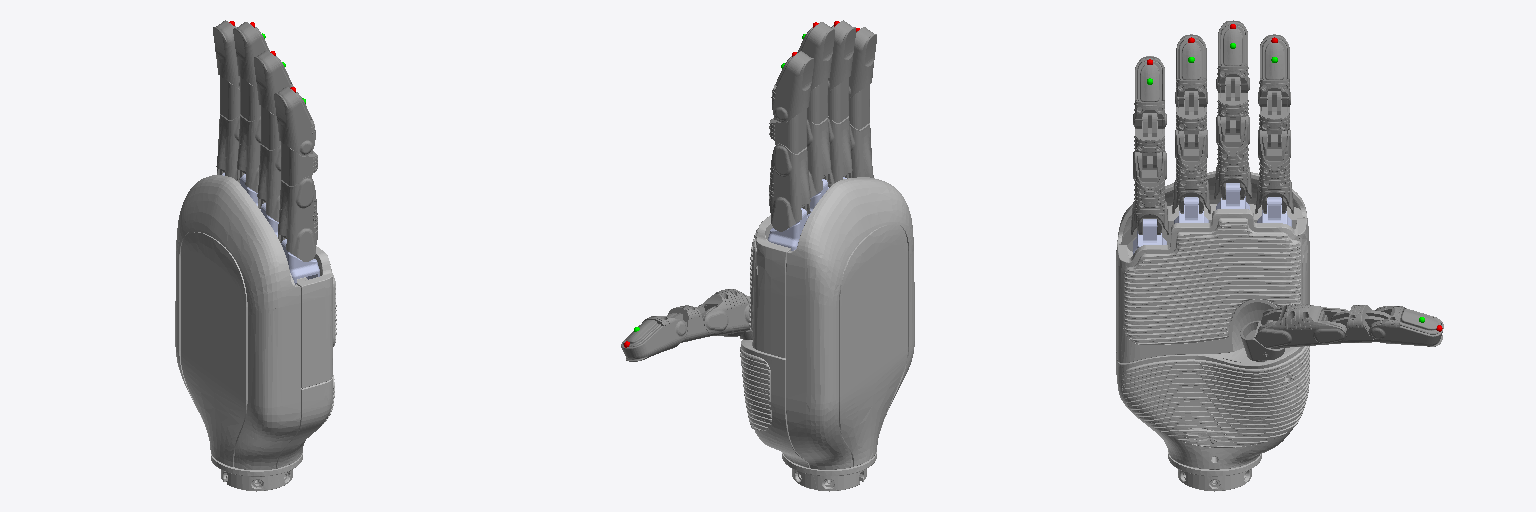
--- Facts derived from the render (not from the file) ---
3 views of the same robot in one strip: view 1: azimuth 30°, elevation 25°; view 2: azimuth 150°, elevation 25°; view 3: azimuth 270°, elevation 25° (orthographic).
Model dexhand021_right_simplified with 33 links and 32 joints (20 revolute, 12 fixed), rooted at root, posed every joint at zero.
Visible links, largest first — view 1: right_hand_base, r_f_link5_2, r_f_link5_4, r_f_link4_2, r_f_link4_4, r_f_link3_2, r_f_link3_4, r_f_link2_2, r_f_link2_4, r_f_link5_3, r_f_link2_3, r_f_link3_3 (+2 smaller); view 2: right_hand_base, r_f_link2_2, r_f_link2_4, r_f_link1_2, r_f_link1_4, r_f_link3_2, r_f_link3_4, r_f_link5_4, r_f_link4_4, r_f_link4_2, r_f_link2_3, r_f_link5_2 (+5 smaller); view 3: right_hand_base, r_f_link1_2, r_f_link4_2, r_f_link3_2, r_f_link2_2, r_f_link5_2, r_f_link1_4, r_f_link4_4, r_f_link3_4, r_f_link5_4, r_f_link2_4, r_f_link1_3 (+9 smaller).
Link boxes in pixels (left/top/right/bottom): right_hand_base: left=175, top=175, right=336, bottom=491; r_f_link5_2: left=278, top=176, right=317, bottom=261; r_f_link5_4: left=274, top=87, right=315, bottom=155; r_f_link4_2: left=257, top=144, right=280, bottom=221; r_f_link4_4: left=254, top=50, right=293, bottom=115; r_f_link3_2: left=237, top=114, right=260, bottom=192; r_f_link3_4: left=233, top=22, right=269, bottom=87; r_f_link2_2: left=216, top=114, right=239, bottom=182; r_f_link2_4: left=213, top=20, right=239, bottom=88; r_f_link5_3: left=281, top=142, right=317, bottom=185; r_f_link2_3: left=220, top=76, right=239, bottom=119; r_f_link3_3: left=240, top=77, right=260, bottom=121; right_hand_base: left=740, top=177, right=914, bottom=491; r_f_link2_2: left=769, top=143, right=810, bottom=231; r_f_link2_4: left=771, top=51, right=813, bottom=122; r_f_link1_2: left=695, top=289, right=749, bottom=336; r_f_link1_4: left=621, top=316, right=687, bottom=361; r_f_link3_2: left=807, top=118, right=831, bottom=197; r_f_link3_4: left=797, top=22, right=834, bottom=89; r_f_link5_4: left=849, top=27, right=876, bottom=97; r_f_link4_4: left=828, top=20, right=855, bottom=90; r_f_link4_2: left=828, top=116, right=852, bottom=187; r_f_link2_3: left=769, top=109, right=806, bottom=153; r_f_link5_2: left=850, top=123, right=873, bottom=177; right_hand_base: left=1116, top=171, right=1309, bottom=491; r_f_link1_2: left=1256, top=304, right=1347, bottom=347; r_f_link4_2: left=1172, top=129, right=1210, bottom=213; r_f_link3_2: left=1214, top=115, right=1251, bottom=199; r_f_link2_2: left=1255, top=129, right=1293, bottom=213; r_f_link5_2: left=1131, top=151, right=1168, bottom=234; r_f_link1_4: left=1369, top=306, right=1443, bottom=346; r_f_link4_4: left=1175, top=34, right=1207, bottom=106; r_f_link3_4: left=1216, top=20, right=1249, bottom=92; r_f_link5_4: left=1133, top=56, right=1166, bottom=128; r_f_link2_4: left=1258, top=34, right=1290, bottom=106; r_f_link1_3: left=1331, top=305, right=1389, bottom=342.
Size in the robot's own frame: 0.0954 by 0.1917 by 0.2954 metres.
Meshes: 21 distinct files referenced, 21 mesh visuals loaded (21 binary STL).

robot.urdf — dexhand021_right_simplified:
<robot name="dexhand021_right_simplified">

  <mujoco>
    <compiler meshdir="../meshes/dexhand021_simplified/" balanceinertia="true" discardvisual="false" />
  </mujoco>
  <link name="root"></link>
  <joint name="root2base_link" type="fixed"> 
    <parent link="root"/>
    <child link="base_dummy"/>
  </joint>

  <link name="base_dummy">
    <visual>
      <geometry>
        <sphere radius="0.008"/>
      </geometry> 
    </visual>
  </link>
  <joint name="base2dummy" type="fixed"> 
    <parent link="base_dummy"/>
    <child link="right_hand_base"/>
    <origin xyz="0 0 -0.15"/>
  </joint> 

  <link name="right_hand_base">
    <inertial>
      <origin xyz="-0.0015600278745012287 0.0009625090756784007 0.09398454850555357" rpy="0 0 0" />
      <mass value="0.883463360898785" />
      <inertia ixx="0.0023037059580292927" ixy="-2.5805909269074535e-05" ixz="6.508687856674162e-05"
        iyy="0.00175609384330596" iyz="-2.666287531103223e-06" izz="0.0010111364552477476" />
    </inertial>
    <visual>
      <origin xyz="0 0 0" rpy="0 0 0" />
      <geometry>
        <mesh filename="package://dexhand021_simplified/right_hand_base.STL" />
      </geometry>
      <material name="">
        <color rgba="0.75294 0.75294 0.75294 1" />
      </material>
    </visual>
    <collision>
      <origin xyz="0 0 0" rpy="0 0 0" />
      <geometry>
        <mesh filename="package://dexhand021_simplified/right_hand_base.STL" />
      </geometry>
    </collision>
  </link>
  <link name="r_f_link1_1">
    <inertial>
      <origin xyz="0.0019778544910583665 -0.0003514818577181193 0.013450507914283125" rpy="0 0 0" />
      <mass value="0.004409963237919953" />
      <inertia ixx="3.738552705358593e-07" ixy="3.520913341881495e-09" ixz="3.260085035198596e-08"
        iyy="4.391768875994729e-07" iyz="-8.616401728203388e-09" izz="2.0472072776608229e-07" />
    </inertial>
    <visual>
      <origin xyz="0 0 0" rpy="0 0 0" />
      <geometry>
        <mesh filename="package://dexhand021_simplified/r_f_link1_1.STL" />
      </geometry>
      <material name="">
        <color rgba="0.6 0.6 0.6 1" />
      </material>
    </visual>
    <collision>
      <origin xyz="0 0 0" rpy="0 0 0" />
      <geometry>
        <mesh filename="package://dexhand021_simplified/r_f_link1_1.STL" />
      </geometry>
    </collision>
  </link>
  <joint name="r_f_joint1_1" type="revolute">
    <origin xyz="0.032783 0.023781 0.11211" rpy="-2.8732 -0.15197 1.3168" />
    <parent link="right_hand_base" />
    <child link="r_f_link1_1" />
    <axis xyz="0 0 1" />
    <limit lower="0" upper="2.2" effort="10" velocity="1.5" />
    <joint_properties damping="0.3" friction="0.5" />
  </joint>
  <link name="r_f_link1_2">
    <inertial>
      <origin xyz="0.021433119463682464 0.00017949524860297363 -0.0012980489303816639" rpy="0 0 0" />
      <mass value="0.009952224489361963" />
      <inertia ixx="6.208915702660591e-07" ixy="4.331524105264049e-08" ixz="-1.2895966979378627e-09"
        iyy="1.653927431057688e-06" iyz="-2.4476026593789965e-10" izz="1.710128108742942e-06" />
    </inertial>
    <visual>
      <origin xyz="0 0 0" rpy="0 0 0" />
      <geometry>
        <mesh filename="package://dexhand021_simplified/r_f_link1_2.STL" />
      </geometry>
      <material name="">
        <color rgba="0.6 0.6 0.6 1" />
      </material>
    </visual>
    <collision>
      <origin xyz="0 0 0" rpy="0 0 0" />
      <geometry>
        <mesh filename="package://dexhand021_simplified/r_f_link1_2.STL" />
      </geometry>
    </collision>
  </link>
  <joint name="r_f_joint1_2" type="revolute">
    <origin xyz="0.0083307 0 0" rpy="-1.5708 0 0" />
    <parent link="r_f_link1_1" />
    <child link="r_f_link1_2" />
    <axis xyz="0 0 1" />
    <limit lower="0" upper="1.3" effort="10" velocity="1.5" />
    <joint_properties damping="0.3" friction="0.5" />
  </joint>
  <link name="r_f_link1_3">
    <inertial>
      <origin xyz="0.013458664141784588 -0.0006999958062437809 -0.0012933496543974267" rpy="0 0 0" />
      <mass value="0.004573330448687783" />
      <inertia ixx="2.037621860887778e-07" ixy="8.916735061601473e-09" ixz="-4.728402827633534e-11"
        iyy="3.560514726888813e-07" iyz="-9.591501738021396e-12" izz="3.7975043116215744e-07" />
    </inertial>
    <visual>
      <origin xyz="0 0 0" rpy="0 0 0" />
      <geometry>
        <mesh filename="package://dexhand021_simplified/r_f_link1_3.STL" />
      </geometry>
      <material name="">
        <color rgba="0.6 0.6 0.6 1" />
      </material>
    </visual>
    <collision>
      <origin xyz="0 0 0" rpy="0 0 0" />
      <geometry>
        <mesh filename="package://dexhand021_simplified/r_f_link1_3.STL" />
      </geometry>
    </collision>
  </link>
  <joint name="r_f_joint1_3" type="revolute">
    <origin xyz="0.043 0 0" rpy="0 0 0" />
    <parent link="r_f_link1_2" />
    <child link="r_f_link1_3" />
    <axis xyz="0 0 1" />
    <limit lower="0" upper="1.3" effort="10" velocity="1.5" />
    <joint_properties damping="0.3" friction="0.5" />
  </joint>
  <link name="r_f_link1_4">
    <inertial>
      <origin xyz="0.016260902265632454 -0.0036968191068811897 -0.0012919747163664733" rpy="0 0 0" />
      <mass value="0.0061592845660588934" />
      <inertia ixx="3.209811115967142e-07" ixy="1.2445469635995967e-07" ixz="-6.880896135469004e-11"
        iyy="7.411929699509472e-07" iyz="2.2440788377780098e-11" izz="7.350966610995298e-07" />
    </inertial>
    <visual>
      <origin xyz="0 0 0" rpy="0 0 0" />
      <geometry>
        <mesh filename="package://dexhand021_simplified/r_f_link1_4.STL" />
      </geometry>
      <material name="">
        <color rgba="0.6 0.6 0.6 1" />
      </material>
    </visual>
    <collision>
      <origin xyz="0 0 0" rpy="0 0 0" />
      <geometry>
        <mesh filename="package://dexhand021_simplified/r_f_link1_4.STL" />
      </geometry>
    </collision>
  </link>
  <joint name="r_f_joint1_4" type="revolute">
    <origin xyz="0.025 0 0" rpy="0 0 0" />
    <parent link="r_f_link1_3" />
    <child link="r_f_link1_4" />
    <axis xyz="0 0 1" />
    <limit lower="0" upper="1.3" effort="10" velocity="1.5" />
    <joint_properties damping="0.3" friction="0.5" />
  </joint>
  <link name="r_f_link2_1">
    <inertial>
      <origin xyz="0.007002069038621297 9.357803041398554e-08 0.0009685458146087415" rpy="0 0 0" />
      <mass value="0.00409703693716023" />
      <inertia ixx="2.178904895420587e-07" ixy="1.787165940909423e-12" ixz="-2.714020732705414e-08"
        iyy="3.1812522087563326e-07" iyz="-3.5118768363971816e-12" izz="2.5804422992725426e-07" />
    </inertial>
    <visual>
      <origin xyz="0 0 0" rpy="0 0 0" />
      <geometry>
        <mesh filename="package://dexhand021_simplified/r_f_link2_1.STL" />
      </geometry>
      <material name="">
        <color rgba="0.79216 0.81961 0.93333 1" />
      </material>
    </visual>
    <collision>
      <origin xyz="0 0 0" rpy="0 0 0" />
      <geometry>
        <mesh filename="package://dexhand021_simplified/r_f_link2_1.STL" />
      </geometry>
    </collision>
  </link>
  <joint name="r_f_joint2_1" type="revolute">
    <origin xyz="0.006966 0.034912 0.1644" rpy="0 -1.5708 0" />
    <parent link="right_hand_base" />
    <child link="r_f_link2_1" />
    <axis xyz="0 0 1" />
    <limit lower="0" upper="0.6" effort="10" velocity="1.5" />
    <joint_properties damping="0.3" friction="0.5" />
  </joint>
  <link name="r_f_link2_2">
    <inertial>
      <origin xyz="0.021162319330545017 -0.0005905085870812944 -2.0359113094578646e-06" rpy="0 0 0" />
      <mass value="0.009428397870928118" />
      <inertia ixx="5.548897448174672e-07" ixy="2.456603793705999e-08" ixz="-1.449358310042273e-09"
        iyy="1.6571977230510514e-06" iyz="-3.7107061310136195e-11" izz="1.643290123512205e-06" />
    </inertial>
    <visual>
      <origin xyz="0 0 0" rpy="0 0 0" />
      <geometry>
        <mesh filename="package://dexhand021_simplified/r_f_link2_2.STL" />
      </geometry>
      <material name="">
        <color rgba="0.6 0.6 0.6 1" />
      </material>
    </visual>
    <collision>
      <origin xyz="0 0 0" rpy="0 0 0" />
      <geometry>
        <mesh filename="package://dexhand021_simplified/r_f_link2_2.STL" />
      </geometry>
    </collision>
  </link>
  <joint name="r_f_joint2_2" type="revolute">
    <origin xyz="0.017 0 0" rpy="-1.5708 0 0" />
    <parent link="r_f_link2_1" />
    <child link="r_f_link2_2" />
    <axis xyz="0 0 1" />
    <limit lower="0" upper="1.3" effort="10" velocity="1.5" />
    <joint_properties damping="0.3" friction="0.5" />
  </joint>
  <link name="r_f_link2_3">
    <inertial>
      <origin xyz="0.01345866415315435 -0.0006999958062410579 -9.330927506595308e-07" rpy="0 0 0" />
      <mass value="0.004573330342568089" />
      <inertia ixx="2.0376217670112032e-07" ixy="8.91673496248712e-09" ixz="-4.72826458681375e-11"
        iyy="3.5605146078323137e-07" iyz="-9.59165793254378e-12" izz="3.797504229073957e-07" />
    </inertial>
    <visual>
      <origin xyz="0 0 0" rpy="0 0 0" />
      <geometry>
        <mesh filename="package://dexhand021_simplified/r_f_link2_3.STL" />
      </geometry>
      <material name="">
        <color rgba="0.6 0.6 0.6 1" />
      </material>
    </visual>
    <collision>
      <origin xyz="0 0 0" rpy="0 0 0" />
      <geometry>
        <mesh filename="package://dexhand021_simplified/r_f_link2_3.STL" />
      </geometry>
    </collision>
  </link>
  <joint name="r_f_joint2_3" type="revolute">
    <origin xyz="0.043 0 0" rpy="0 0 0" />
    <parent link="r_f_link2_2" />
    <child link="r_f_link2_3" />
    <axis xyz="0 0 1" />
    <limit lower="0" upper="1.3" effort="10" velocity="1.5" />
    <joint_properties damping="0.3" friction="0.5" />
  </joint>
  <link name="r_f_link2_4">
    <inertial>
      <origin xyz="0.016260902193777373 -0.0036968190901838743 3.9726157294289625e-07" rpy="0 0 0" />
      <mass value="0.006159284595780522" />
      <inertia ixx="3.20980749974577e-07" ixy="1.2445469728969045e-07" ixz="-6.803142097883919e-11"
        iyy="7.411926136551803e-07" iyz="2.345964836779508e-11" izz="7.35096667536344e-07" />
    </inertial>
    <visual>
      <origin xyz="0 0 0" rpy="0 0 0" />
      <geometry>
        <mesh filename="package://dexhand021_simplified/r_f_link2_4.STL" />
      </geometry>
      <material name="">
        <color rgba="0.6 0.6 0.6 1" />
      </material>
    </visual>
    <collision>
      <origin xyz="0 0 0" rpy="0 0 0" />
      <geometry>
        <mesh filename="package://dexhand021_simplified/r_f_link2_4.STL" />
      </geometry>
    </collision>
  </link>
  <joint name="r_f_joint2_4" type="revolute">
    <origin xyz="0.025 0 0" rpy="0 0 0" />
    <parent link="r_f_link2_3" />
    <child link="r_f_link2_4" />
    <axis xyz="0 0 1" />
    <limit lower="0" upper="1.3" effort="10" velocity="1.5" />
    <joint_properties damping="0.3" friction="0.5" />
  </joint>
  <link name="r_f_link3_1">
    <inertial>
      <origin xyz="0.007002065151499656 9.454180011921967e-08 0.0009685524458122911" rpy="0 0 0" />
      <mass value="0.004097039690946969" />
      <inertia ixx="2.178907383197761e-07" ixy="1.812446936566197e-12" ixz="-2.7140047929913052e-08"
        iyy="3.181255635140554e-07" iyz="-3.5436789396505467e-12" izz="2.5804432247051993e-07" />
    </inertial>
    <visual>
      <origin xyz="0 0 0" rpy="0 0 0" />
      <geometry>
        <mesh filename="package://dexhand021_simplified/r_f_link3_1.STL" />
      </geometry>
      <material name="">
        <color rgba="0.79216 0.81961 0.93333 1" />
      </material>
    </visual>
    <collision>
      <origin xyz="0 0 0" rpy="0 0 0" />
      <geometry>
        <mesh filename="package://dexhand021_simplified/r_f_link3_1.STL" />
      </geometry>
    </collision>
  </link>
  <joint name="r_f_joint3_1" type="revolute">
    <origin xyz="0.006966 0.010612 0.1734" rpy="0 -1.5708 0" />
    <parent link="right_hand_base" />
    <child link="r_f_link3_1" />
    <axis xyz="0 0 1" />
    <limit lower="-0.001" upper="0.001" effort="0" velocity="0" />
  </joint>
  <link name="r_f_link3_2">
    <inertial>
      <origin xyz="0.021162319330545024 -0.0005905085870812944 -2.0359113094579582e-06" rpy="0 0 0" />
      <mass value="0.009428397870928118" />
      <inertia ixx="5.548897448174672e-07" ixy="2.4566037937060034e-08"
        ixz="-1.4493583100422476e-09" iyy="1.657197723051048e-06" iyz="-3.710706131013722e-11"
        izz="1.6432901235122024e-06" />
    </inertial>
    <visual>
      <origin xyz="0 0 0" rpy="0 0 0" />
      <geometry>
        <mesh filename="package://dexhand021_simplified/r_f_link3_2.STL" />
      </geometry>
      <material name="">
        <color rgba="0.6 0.6 0.6 1" />
      </material>
    </visual>
    <collision>
      <origin xyz="0 0 0" rpy="0 0 0" />
      <geometry>
        <mesh filename="package://dexhand021_simplified/r_f_link3_2.STL" />
      </geometry>
    </collision>
  </link>
  <joint name="r_f_joint3_2" type="revolute">
    <origin xyz="0.017 0 0" rpy="-1.5708 0 0" />
    <parent link="r_f_link3_1" />
    <child link="r_f_link3_2" />
    <axis xyz="0 0 1" />
    <limit lower="0" upper="1.3" effort="10" velocity="1.5" />
    <joint_properties damping="0.3" friction="0.5" />
  </joint>
  <link name="r_f_link3_3">
    <inertial>
      <origin xyz="0.013458664153210224 -0.0006999958063106384 -9.330929179144477e-07" rpy="0 0 0" />
      <mass value="0.004573330342515683" />
      <inertia ixx="2.0376217669493455e-07" ixy="8.916734960990637e-09" ixz="-4.728264880693177e-11"
        iyy="3.56051460777864e-07" iyz="-9.591653550951845e-12" izz="3.7975042290424446e-07" />
    </inertial>
    <visual>
      <origin xyz="0 0 0" rpy="0 0 0" />
      <geometry>
        <mesh filename="package://dexhand021_simplified/r_f_link3_3.STL" />
      </geometry>
      <material name="">
        <color rgba="0.6 0.6 0.6 1" />
      </material>
    </visual>
    <collision>
      <origin xyz="0 0 0" rpy="0 0 0" />
      <geometry>
        <mesh filename="package://dexhand021_simplified/r_f_link3_3.STL" />
      </geometry>
    </collision>
  </link>
  <joint name="r_f_joint3_3" type="revolute">
    <origin xyz="0.043 0 0" rpy="0 0 0" />
    <parent link="r_f_link3_2" />
    <child link="r_f_link3_3" />
    <axis xyz="0 0 1" />
    <limit lower="0" upper="1.3" effort="10" velocity="1.5" />
    <joint_properties damping="0.3" friction="0.5" />
  </joint>
  <link name="r_f_link3_4">
    <inertial>
      <origin xyz="0.016260902193777373 -0.0036968190901838743 3.97261572942753e-07" rpy="0 0 0" />
      <mass value="0.006159284595780522" />
      <inertia ixx="3.20980749974577e-07" ixy="1.2445469728969045e-07" ixz="-6.803142097885355e-11"
        iyy="7.411926136551803e-07" iyz="2.3459648367798343e-11" izz="7.35096667536344e-07" />
    </inertial>
    <visual>
      <origin xyz="0 0 0" rpy="0 0 0" />
      <geometry>
        <mesh filename="package://dexhand021_simplified/r_f_link3_4.STL" />
      </geometry>
      <material name="">
        <color rgba="0.6 0.6 0.6 1" />
      </material>
    </visual>
    <collision>
      <origin xyz="0 0 0" rpy="0 0 0" />
      <geometry>
        <mesh filename="package://dexhand021_simplified/r_f_link3_4.STL" />
      </geometry>
    </collision>
  </link>
  <joint name="r_f_joint3_4" type="revolute">
    <origin xyz="0.025 0 0" rpy="0 0 0" />
    <parent link="r_f_link3_3" />
    <child link="r_f_link3_4" />
    <axis xyz="0 0 1" />
    <limit lower="0" upper="1.3" effort="10" velocity="1.5" />
    <joint_properties damping="0.3" friction="0.5" />
  </joint>
  <link name="r_f_link4_1">
    <inertial>
      <origin xyz="0.00700206404946545 -9.455995810260609e-08 -0.0009685535151255396" rpy="0 0 0" />
      <mass value="0.004097040417879458" />
      <inertia ixx="2.1789076647042053e-07" ixy="-1.8130446100071611e-12"
        ixz="2.7140020786854562e-08" iyy="3.181256178112115e-07" iyz="-3.5443354761634267e-12"
        izz="2.5804435232800547e-07" />
    </inertial>
    <visual>
      <origin xyz="0 0 0" rpy="0 0 0" />
      <geometry>
        <mesh filename="package://dexhand021_simplified/r_f_link4_1.STL" />
      </geometry>
      <material name="">
        <color rgba="0.79216 0.81961 0.93333 1" />
      </material>
    </visual>
    <collision>
      <origin xyz="0 0 0" rpy="0 0 0" />
      <geometry>
        <mesh filename="package://dexhand021_simplified/r_f_link4_1.STL" />
      </geometry>
    </collision>
  </link>
  <joint name="r_f_joint4_1" type="revolute">
    <origin xyz="0.006966 -0.013688 0.1644" rpy="3.1416 -1.5708 0" />
    <parent link="right_hand_base" />
    <child link="r_f_link4_1" />
    <axis xyz="0 0 1" />
    <limit lower="0" upper="0.6" effort="10" velocity="1.5" />
    <joint_properties damping="0.3" friction="0.5" />
  </joint>
  <link name="r_f_link4_2">
    <inertial>
      <origin xyz="0.021162319330545028 -0.0005905085870812945 -2.0359113094580522e-06" rpy="0 0 0" />
      <mass value="0.009428397870928114" />
      <inertia ixx="5.548897448174672e-07" ixy="2.4566037937060014e-08"
        ixz="-1.4493583100423105e-09" iyy="1.657197723051048e-06" iyz="-3.710706131013946e-11"
        izz="1.6432901235122017e-06" />
    </inertial>
    <visual>
      <origin xyz="0 0 0" rpy="0 0 0" />
      <geometry>
        <mesh filename="package://dexhand021_simplified/r_f_link4_2.STL" />
      </geometry>
      <material name="">
        <color rgba="0.6 0.6 0.6 1" />
      </material>
    </visual>
    <collision>
      <origin xyz="0 0 0" rpy="0 0 0" />
      <geometry>
        <mesh filename="package://dexhand021_simplified/r_f_link4_2.STL" />
      </geometry>
    </collision>
  </link>
  <joint name="r_f_joint4_2" type="revolute">
    <origin xyz="0.017 0 0" rpy="1.5708 0 0" />
    <parent link="r_f_link4_1" />
    <child link="r_f_link4_2" />
    <axis xyz="0 0 1" />
    <limit lower="0" upper="1.3" effort="10" velocity="1.5" />
    <joint_properties damping="0.3" friction="0.5" />
  </joint>
  <link name="r_f_link4_3">
    <inertial>
      <origin xyz="0.01345866415322733 -0.0006999958065390803 -9.330926767104112e-07" rpy="0 0 0" />
      <mass value="0.00457333034240358" />
      <inertia ixx="2.0376217668041e-07" ixy="8.91673496008684e-09" ixz="-4.728264679830499e-11"
        iyy="3.5605146077323675e-07" iyz="-9.591662499769373e-12" izz="3.797504228946728e-07" />
    </inertial>
    <visual>
      <origin xyz="0 0 0" rpy="0 0 0" />
      <geometry>
        <mesh filename="package://dexhand021_simplified/r_f_link4_3.STL" />
      </geometry>
      <material name="">
        <color rgba="0.6 0.6 0.6 1" />
      </material>
    </visual>
    <collision>
      <origin xyz="0 0 0" rpy="0 0 0" />
      <geometry>
        <mesh filename="package://dexhand021_simplified/r_f_link4_3.STL" />
      </geometry>
    </collision>
  </link>
  <joint name="r_f_joint4_3" type="revolute">
    <origin xyz="0.043 0 0" rpy="0 0 0" />
    <parent link="r_f_link4_2" />
    <child link="r_f_link4_3" />
    <axis xyz="0 0 1" />
    <limit lower="0" upper="1.3" effort="10" velocity="1.5" />
    <joint_properties damping="0.3" friction="0.5" />
  </joint>
  <link name="r_f_link4_4">
    <inertial>
      <origin xyz="0.016260902193777373 -0.0036968190901838743 3.972615729429321e-07" rpy="0 0 0" />
      <mass value="0.006159284595780522" />
      <inertia ixx="3.20980749974577e-07" ixy="1.2445469728969045e-07" ixz="-6.803142097883491e-11"
        iyy="7.411926136551803e-07" iyz="2.345964836779392e-11" izz="7.35096667536344e-07" />
    </inertial>
    <visual>
      <origin xyz="0 0 0" rpy="0 0 0" />
      <geometry>
        <mesh filename="package://dexhand021_simplified/r_f_link4_4.STL" />
      </geometry>
      <material name="">
        <color rgba="0.6 0.6 0.6 1" />
      </material>
    </visual>
    <collision>
      <origin xyz="0 0 0" rpy="0 0 0" />
      <geometry>
        <mesh filename="package://dexhand021_simplified/r_f_link4_4.STL" />
      </geometry>
    </collision>
  </link>
  <joint name="r_f_joint4_4" type="revolute">
    <origin xyz="0.025 0 0" rpy="0 0 0" />
    <parent link="r_f_link4_3" />
    <child link="r_f_link4_4" />
    <axis xyz="0 0 1" />
    <limit lower="0" upper="1.3" effort="10" velocity="1.5" />
    <joint_properties damping="0.3" friction="0.5" />
  </joint>
  <link name="r_f_link5_1">
    <inertial>
      <origin xyz="0.007002072345617439 -9.356774266676025e-08 -0.0009685416065737108" rpy="0 0 0" />
      <mass value="0.004097034606160823" />
      <inertia ixx="2.1789035420755646e-07" ixy="-1.7868226937386937e-12"
        ixz="2.7140306065952608e-08" iyy="3.1812500990757077e-07" iyz="-3.511503367038186e-12"
        izz="2.5804414762069686e-07" />
    </inertial>
    <visual>
      <origin xyz="0 0 0" rpy="0 0 0" />
      <geometry>
        <mesh filename="package://dexhand021_simplified/r_f_link5_1.STL" />
      </geometry>
      <material name="">
        <color rgba="0.792156862745098 0.819607843137255 0.933333333333333 1" />
      </material>
    </visual>
    <collision>
      <origin xyz="0 0 0" rpy="0 0 0" />
      <geometry>
        <mesh filename="package://dexhand021_simplified/r_f_link5_1.STL" />
      </geometry>
    </collision>
  </link>
  <joint name="r_f_joint5_1" type="revolute">
    <origin xyz="0.006966 -0.037988 0.1504" rpy="3.1416 -1.5708 0" />
    <parent link="right_hand_base" />
    <child link="r_f_link5_1" />
    <axis xyz="0 0 1" />
    <limit lower="0" upper="0.6" effort="10" velocity="1.5" />
    <joint_properties damping="0.3" friction="0.5" />
  </joint>
  <link name="r_f_link5_2">
    <inertial>
      <origin xyz="0.021162319330545028 -0.0005905085870812942 -2.0359113094578888e-06" rpy="0 0 0" />
      <mass value="0.009428397870928114" />
      <inertia ixx="5.548897448174672e-07" ixy="2.4566037937060094e-08"
        ixz="-1.4493583100422778e-09" iyy="1.657197723051048e-06" iyz="-3.710706131013762e-11"
        izz="1.6432901235122017e-06" />
    </inertial>
    <visual>
      <origin xyz="0 0 0" rpy="0 0 0" />
      <geometry>
        <mesh filename="package://dexhand021_simplified/r_f_link5_2.STL" />
      </geometry>
      <material name="">
        <color rgba="0.6 0.6 0.6 1" />
      </material>
    </visual>
    <collision>
      <origin xyz="0 0 0" rpy="0 0 0" />
      <geometry>
        <mesh filename="package://dexhand021_simplified/r_f_link5_2.STL" />
      </geometry>
    </collision>
  </link>
  <joint name="r_f_joint5_2" type="revolute">
    <origin xyz="0.017 0 0" rpy="1.5708 0 0" />
    <parent link="r_f_link5_1" />
    <child link="r_f_link5_2" />
    <axis xyz="0 0 1" />
    <limit lower="0" upper="1.3" effort="10" velocity="1.5" />
    <joint_properties damping="0.3" friction="0.5" />
  </joint>
  <link name="r_f_link5_3">
    <inertial>
      <origin xyz="0.013458664153178274 -0.0006999958064664594 -9.33092622464221e-07" rpy="0 0 0" />
      <mass value="0.004573330342463683" />
      <inertia ixx="2.0376217668717986e-07" ixy="8.916734961335758e-09"
        ixz="-4.7282645403529146e-11" iyy="3.5605146077906275e-07" iyz="-9.591663946392197e-12"
        izz="3.797504228974048e-07" />
    </inertial>
    <visual>
      <origin xyz="0 0 0" rpy="0 0 0" />
      <geometry>
        <mesh filename="package://dexhand021_simplified/r_f_link5_3.STL" />
      </geometry>
      <material name="">
        <color rgba="0.6 0.6 0.6 1" />
      </material>
    </visual>
    <collision>
      <origin xyz="0 0 0" rpy="0 0 0" />
      <geometry>
        <mesh filename="package://dexhand021_simplified/r_f_link5_3.STL" />
      </geometry>
    </collision>
  </link>
  <joint name="r_f_joint5_3" type="revolute">
    <origin xyz="0.043 0 0" rpy="0 0 0" />
    <parent link="r_f_link5_2" />
    <child link="r_f_link5_3" />
    <axis xyz="0 0 1" />
    <limit lower="0" upper="1.3" effort="10" velocity="1.5" />
    <joint_properties damping="0.3" friction="0.5" />
  </joint>
  <link name="r_f_link5_4">
    <inertial>
      <origin xyz="0.01626090219377737 -0.0036968190901838743 3.972615729429321e-07" rpy="0 0 0" />
      <mass value="0.006159284595780522" />
      <inertia ixx="3.2098074997457713e-07" ixy="1.244546972896905e-07" ixz="-6.803142097883424e-11"
        iyy="7.411926136551809e-07" iyz="2.345964836779013e-11" izz="7.350966675363446e-07" />
    </inertial>
    <visual>
      <origin xyz="0 0 0" rpy="0 0 0" />
      <geometry>
        <mesh filename="package://dexhand021_simplified/r_f_link5_4.STL" />
      </geometry>
      <material name="">
        <color rgba="0.6 0.6 0.6 1" />
      </material>
    </visual>
    <collision>
      <origin xyz="0 0 0" rpy="0 0 0" />
      <geometry>
        <mesh filename="package://dexhand021_simplified/r_f_link5_4.STL" />
      </geometry>
    </collision>
  </link>
  <joint name="r_f_joint5_4" type="revolute">
    <origin xyz="0.025 0 0" rpy="0 0 0" />
    <parent link="r_f_link5_3" />
    <child link="r_f_link5_4" />
    <axis xyz="0 0 1" />
    <limit lower="0" upper="1.3" effort="10" velocity="1.5" />
    <joint_properties damping="0.3" friction="0.5" />
  </joint>

  <link name="r_f_link1_tip">
    <inertial>
      <origin xyz="0 0 0" rpy="0 0 0" />
      <mass value="0.001" />
      <inertia ixx="1.0E-09" ixy="0.0" ixz="0.0" iyy="1.0E-09" iyz="0.0" izz="1.0E-09" />
    </inertial>
    <visual>
      <origin xyz="0 0 0" rpy="0 0 0" />
      <geometry>
        <sphere radius="0.002" />
      </geometry>
      <material name="">
        <color rgba="1 0 0 1" />
      </material>
    </visual>
    <collision>
      <origin xyz="0 0 0" rpy="0 0 0" />
      <geometry>
        <sphere radius="0.002" />
      </geometry>
    </collision>
  </link>

  <joint name="r_f_joint1_tip" type="fixed">
    <origin xyz="0.035 -0.004 0" rpy="0 0 0" />
    <parent link="r_f_link1_4" />
    <child link="r_f_link1_tip" />
  </joint>

  <link name="r_f_link2_tip">
    <inertial>
      <origin xyz="0 0 0" rpy="0 0 0" />
      <mass value="0.001" />
      <inertia ixx="1.0E-09" ixy="0.0" ixz="0.0" iyy="1.0E-09" iyz="0.0" izz="1.0E-09" />
    </inertial>
    <visual>
      <origin xyz="0 0 0" rpy="0 0 0" />
      <geometry>
        <sphere radius="0.002" />
      </geometry>
      <material name="">
        <color rgba="1 0 0 1" />
      </material>
    </visual>
    <collision>
      <origin xyz="0 0 0" rpy="0 0 0" />
      <geometry>
        <sphere radius="0.002" />
      </geometry>
    </collision>
  </link>

  <joint name="r_f_joint2_tip" type="fixed">
    <origin xyz="0.035 -0.004 0" rpy="0 0 0" />
    <parent link="r_f_link2_4" />
    <child link="r_f_link2_tip" />
  </joint>

  <link name="r_f_link3_tip">
    <inertial>
      <origin xyz="0 0 0" rpy="0 0 0" />
      <mass value="0.001" />
      <inertia ixx="1.0E-09" ixy="0.0" ixz="0.0" iyy="1.0E-09" iyz="0.0" izz="1.0E-09" />
    </inertial>
    <visual>
      <origin xyz="0 0 0" rpy="0 0 0" />
      <geometry>
        <sphere radius="0.002" />
      </geometry>
      <material name="">
        <color rgba="1 0 0 1" />
      </material>
    </visual>
    <collision>
      <origin xyz="0 0 0" rpy="0 0 0" />
      <geometry>
        <sphere radius="0.002" />
      </geometry>
    </collision>
  </link>

  <joint name="r_f_joint3_tip" type="fixed">
    <origin xyz="0.035 -0.004 0" rpy="0 0 0" />
    <parent link="r_f_link3_4" />
    <child link="r_f_link3_tip" />
  </joint>

  <link name="r_f_link4_tip">
    <inertial>
      <origin xyz="0 0 0" rpy="0 0 0" />
      <mass value="0.001" />
      <inertia ixx="1.0E-09" ixy="0.0" ixz="0.0" iyy="1.0E-09" iyz="0.0" izz="1.0E-09" />
    </inertial>
    <visual>
      <origin xyz="0 0 0" rpy="0 0 0" />
      <geometry>
        <sphere radius="0.002" />
      </geometry>
      <material name="">
        <color rgba="1 0 0 1" />
      </material>
    </visual>
    <collision>
      <origin xyz="0 0 0" rpy="0 0 0" />
      <geometry>
        <sphere radius="0.002" />
      </geometry>
    </collision>
  </link>

  <joint name="r_f_joint4_tip" type="fixed">
    <origin xyz="0.035 -0.004 0" rpy="0 0 0" />
    <parent link="r_f_link4_4" />
    <child link="r_f_link4_tip" />
  </joint>

  <link name="r_f_link5_tip">
    <inertial>
      <origin xyz="0 0 0" rpy="0 0 0" />
      <mass value="0.001" />
      <inertia ixx="1.0E-09" ixy="0.0" ixz="0.0" iyy="1.0E-09" iyz="0.0" izz="1.0E-09" />
    </inertial>
    <visual>
      <origin xyz="0 0 0" rpy="0 0 0" />
      <geometry>
        <sphere radius="0.002" />
      </geometry>
      <material name="">
        <color rgba="1 0 0 1" />
      </material>
    </visual>
    <collision>
      <origin xyz="0 0 0" rpy="0 0 0" />
      <geometry>
        <sphere radius="0.002" />
      </geometry>
    </collision>
  </link>

  <joint name="r_f_joint5_tip" type="fixed">
    <origin xyz="0.035 -0.004 0" rpy="0 0 0" />
    <parent link="r_f_link5_4" />
    <child link="r_f_link5_tip" />
  </joint>

  <link name="r_f_link1_pad">
    <inertial>
      <origin xyz="0 0 0" rpy="0 0 0" />
      <mass value="0.001" />
      <inertia ixx="1.0E-09" ixy="0.0" ixz="0.0" iyy="1.0E-09" iyz="0.0" izz="1.0E-09" />
    </inertial>
    <visual>
      <origin xyz="0 0 0" rpy="0 0 0" />
      <geometry>
        <sphere radius="0.002" />
      </geometry>
      <material name="">
        <color rgba="0 1 0 1" />
      </material>
    </visual>
    <collision>
      <origin xyz="0 0 0" rpy="0 0 0" />
      <geometry>
        <sphere radius="0.002" />
      </geometry>
    </collision>
  </link>

  <joint name="r_f_joint1_pad" type="fixed">
    <origin xyz="0.026 0.003 0" rpy="0 0 0" />
    <parent link="r_f_link1_4" />
    <child link="r_f_link1_pad" />
  </joint>

  <link name="r_f_link2_pad">
    <inertial>
      <origin xyz="0 0 0" rpy="0 0 0" />
      <mass value="0.001" />
      <inertia ixx="1.0E-09" ixy="0.0" ixz="0.0" iyy="1.0E-09" iyz="0.0" izz="1.0E-09" />
    </inertial>
    <visual>
      <origin xyz="0 0 0" rpy="0 0 0" />
      <geometry>
        <sphere radius="0.002" />
      </geometry>
      <material name="">
        <color rgba="0 1 0 1" />
      </material>
    </visual>
    <collision>
      <origin xyz="0 0 0" rpy="0 0 0" />
      <geometry>
        <sphere radius="0.002" />
      </geometry>
    </collision>
  </link>

  <joint name="r_f_joint2_pad" type="fixed">
    <origin xyz="0.026 0.003 0" rpy="0 0 0" />
    <parent link="r_f_link2_4" />
    <child link="r_f_link2_pad" />
  </joint>

  <link name="r_f_link3_pad">
    <inertial>
      <origin xyz="0 0 0" rpy="0 0 0" />
      <mass value="0.001" />
      <inertia ixx="1.0E-09" ixy="0.0" ixz="0.0" iyy="1.0E-09" iyz="0.0" izz="1.0E-09" />
    </inertial>
    <visual>
      <origin xyz="0 0 0" rpy="0 0 0" />
      <geometry>
        <sphere radius="0.002" />
      </geometry>
      <material name="">
        <color rgba="0 1 0 1" />
      </material>
    </visual>
    <collision>
      <origin xyz="0 0 0" rpy="0 0 0" />
      <geometry>
        <sphere radius="0.002" />
      </geometry>
    </collision>
  </link>

  <joint name="r_f_joint3_pad" type="fixed">
    <origin xyz="0.026 0.003 0" rpy="0 0 0" />
    <parent link="r_f_link3_4" />
    <child link="r_f_link3_pad" />
  </joint>

  <link name="r_f_link4_pad">
    <inertial>
      <origin xyz="0 0 0" rpy="0 0 0" />
      <mass value="0.001" />
      <inertia ixx="1.0E-09" ixy="0.0" ixz="0.0" iyy="1.0E-09" iyz="0.0" izz="1.0E-09" />
    </inertial>
    <visual>
      <origin xyz="0 0 0" rpy="0 0 0" />
      <geometry>
        <sphere radius="0.002" />
      </geometry>
      <material name="">
        <color rgba="0 1 0 1" />
      </material>
    </visual>
    <collision>
      <origin xyz="0 0 0" rpy="0 0 0" />
      <geometry>
        <sphere radius="0.002" />
      </geometry>
    </collision>
  </link>

  <joint name="r_f_joint4_pad" type="fixed">
    <origin xyz="0.026 0.003 0" rpy="0 0 0" />
    <parent link="r_f_link4_4" />
    <child link="r_f_link4_pad" />
  </joint>

  <link name="r_f_link5_pad">
    <inertial>
      <origin xyz="0 0 0" rpy="0 0 0" />
      <mass value="0.001" />
      <inertia ixx="1.0E-09" ixy="0.0" ixz="0.0" iyy="1.0E-09" iyz="0.0" izz="1.0E-09" />
    </inertial>
    <visual>
      <origin xyz="0 0 0" rpy="0 0 0" />
      <geometry>
        <sphere radius="0.002" />
      </geometry>
      <material name="">
        <color rgba="0 1 0 1" />
      </material>
    </visual>
    <collision>
      <origin xyz="0 0 0" rpy="0 0 0" />
      <geometry>
        <sphere radius="0.002" />
      </geometry>
    </collision>
  </link>

  <joint name="r_f_joint5_pad" type="fixed">
    <origin xyz="0.026 0.003 0" rpy="0 0 0" />
    <parent link="r_f_link5_4" />
    <child link="r_f_link5_pad" />
  </joint>
</robot>
